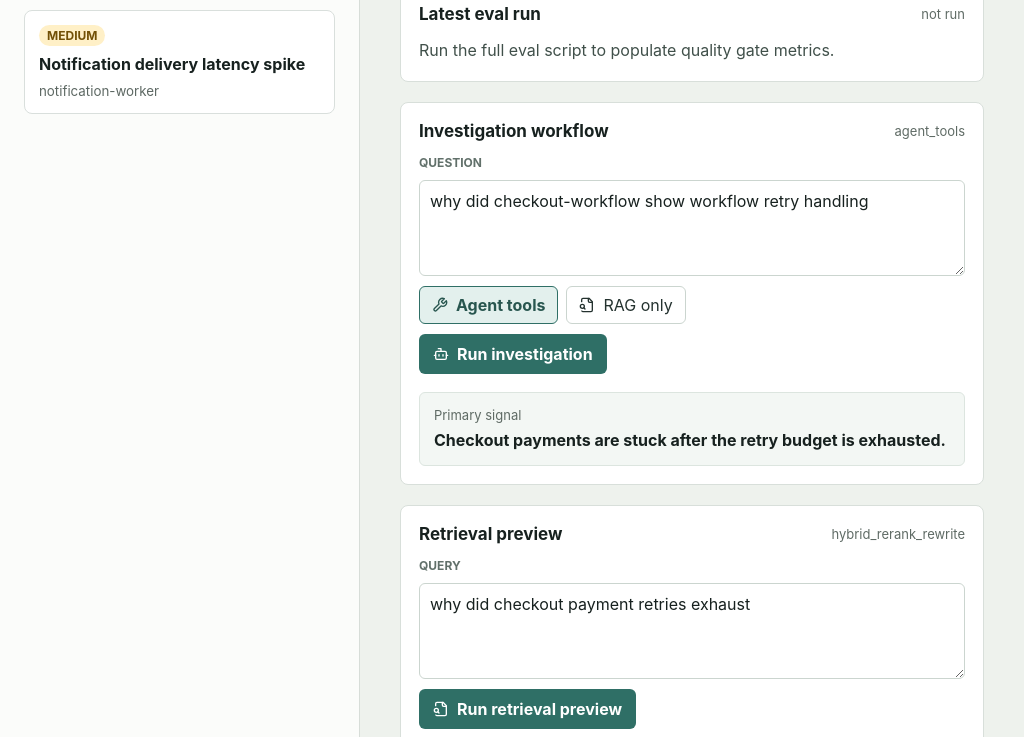
Test: App › shows tool timeline, trace viewer, and verifier for an investigation
(page scrolled)
Click the button "Run investigation": click(513, 354) [419,334,607,374]
(page scrolled)
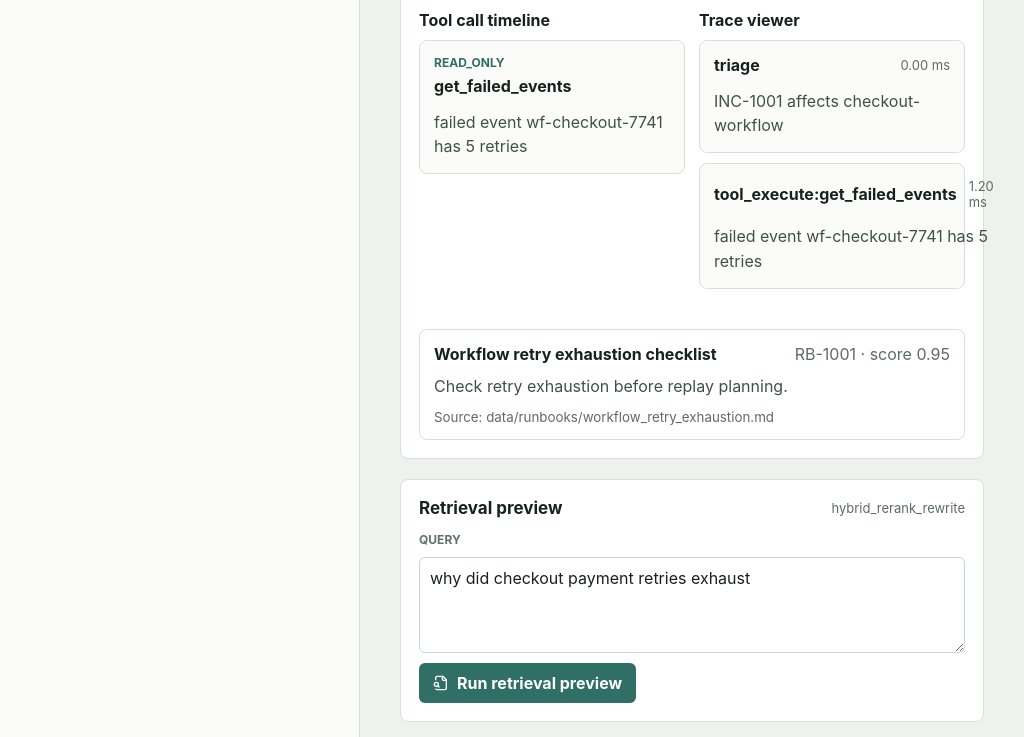
Expected: the element labelled "Tool call timeline" shows "get_failed_events", [434,76,571,96]
Expected: the element labelled "Trace viewer" shows "tool_execute:get_failed_events", [714,184,957,204]
Expected: the heading "Workflow retry exhaustion checklist" is shown, [434,344,717,364]
